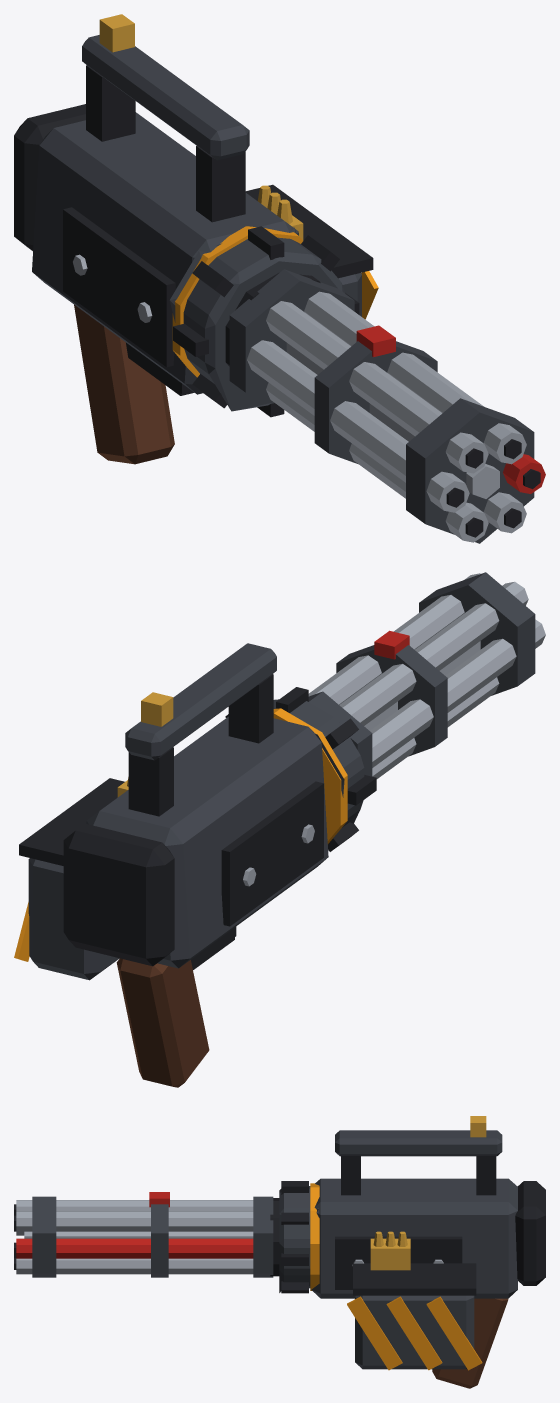
Rendered from chaingun.glb.
3 renders of one model, top to bottom at view 1: azimuth 30°, elevation 25°; view 2: azimuth 150°, elevation 25°; view 3: azimuth 270°, elevation 25°, orthographic. The views are drawn at different scales.
Parts seen in each view (by area): view 1: Chaingun, Barrels; view 2: Chaingun, Barrels; view 3: Chaingun, Barrels.
Part boxes in pixels (x1=…): Chaingun: x1=14, y1=14, x2=378, y2=464; Barrels: x1=229, y1=269, x2=545, y2=543; Chaingun: x1=14, y1=643, x2=376, y2=1087; Barrels: x1=308, y1=572, x2=545, y2=778; Chaingun: x1=270, y1=1116, x2=545, y2=1388; Barrels: x1=14, y1=1192, x2=273, y2=1277.
Bounding box in the file's own units: 0.211 × 0.3664 × 0.668.
